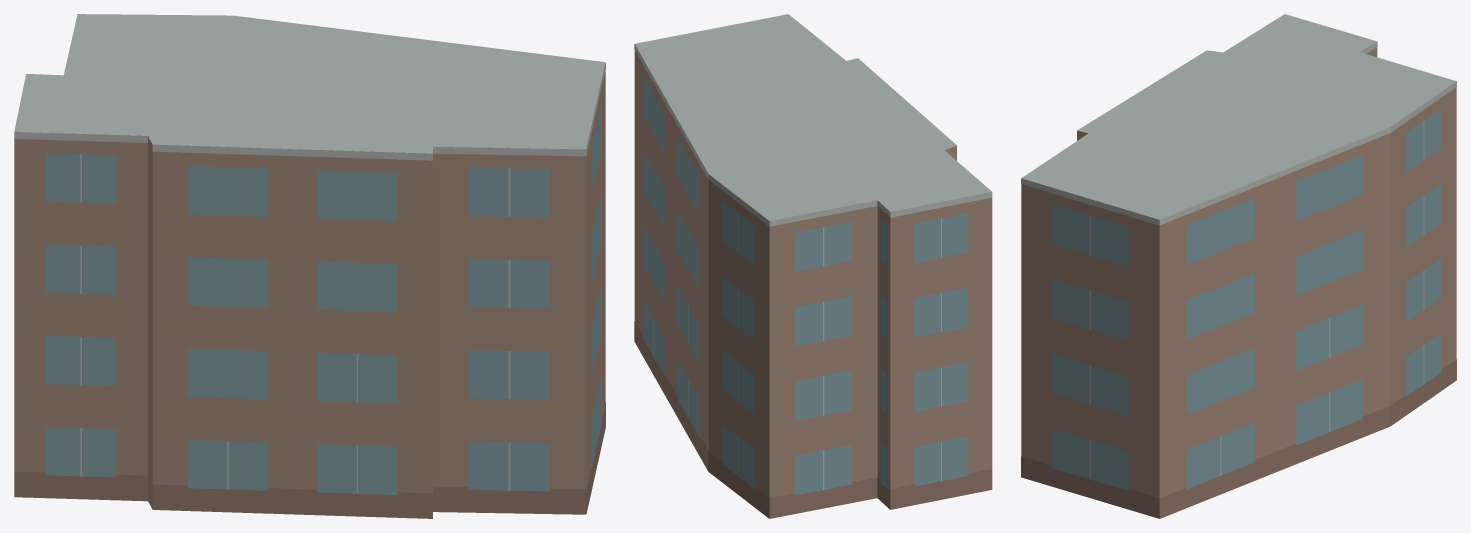
Rendered from survey-upis-32741863.glb.
The picture shows the model from 3 angles, left to right: view 1: azimuth 30°, elevation 25°; view 2: azimuth 150°, elevation 25°; view 3: azimuth 270°, elevation 25°; orthographic projection. The views are drawn at different scales.
Parts seen in each view (by area): view 1: survey-upis-32741863.tmp; view 2: survey-upis-32741863.tmp; view 3: survey-upis-32741863.tmp.
Boxes of the visible parts, x1,y1,x2,y2 form: survey-upis-32741863.tmp: (14, 14, 605, 518); survey-upis-32741863.tmp: (634, 14, 992, 518); survey-upis-32741863.tmp: (1021, 14, 1456, 518).
Bounding box in the file's own units: 18.9 × 12.8 × 16.91.
